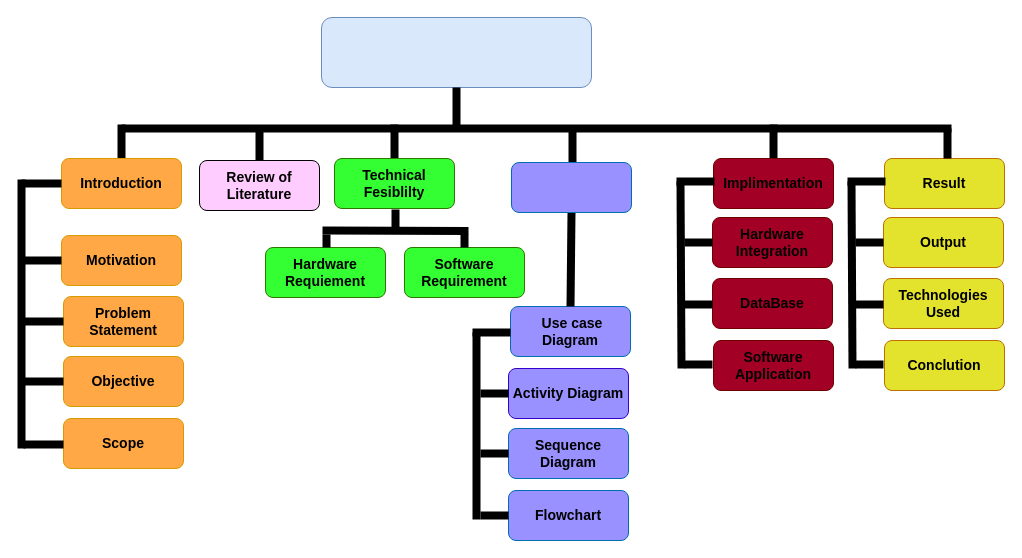
This 1022x558 diagram has some shape labels left out. The centre of each missing label's shape, as x and y in pixels:
IOT Based Automatic Accident Alert System: (x=456, y=52)
Requirement Elication: (x=571, y=187)
